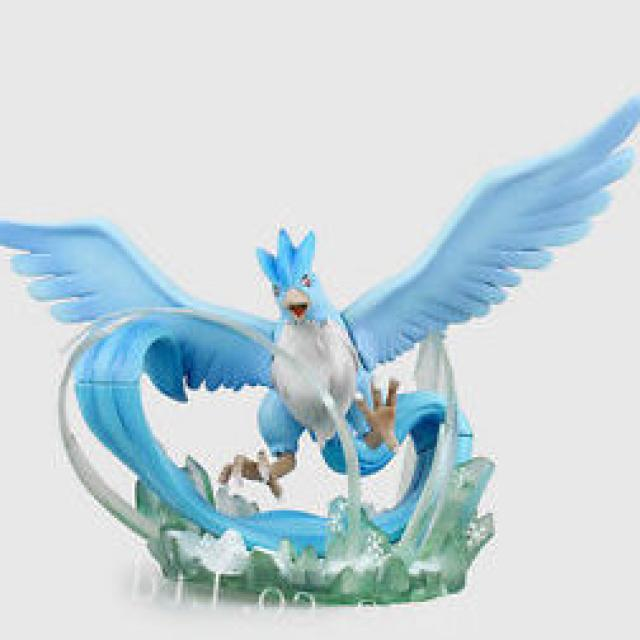Articuno: (67, 162, 470, 526)
